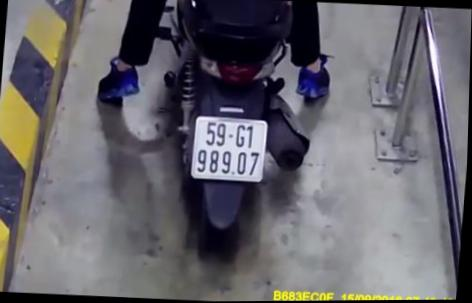LP: (190, 114, 269, 184)
